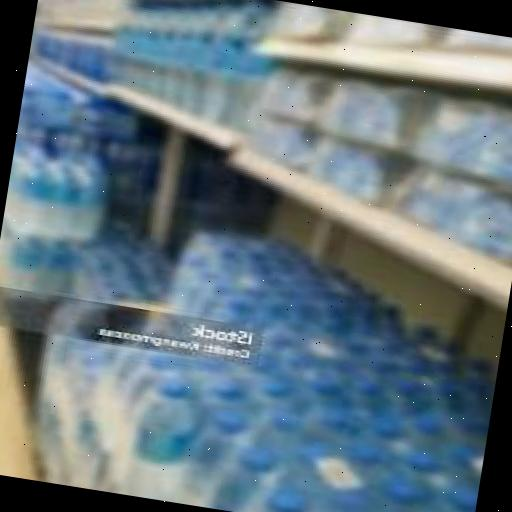bottle: (28, 24, 108, 76)
